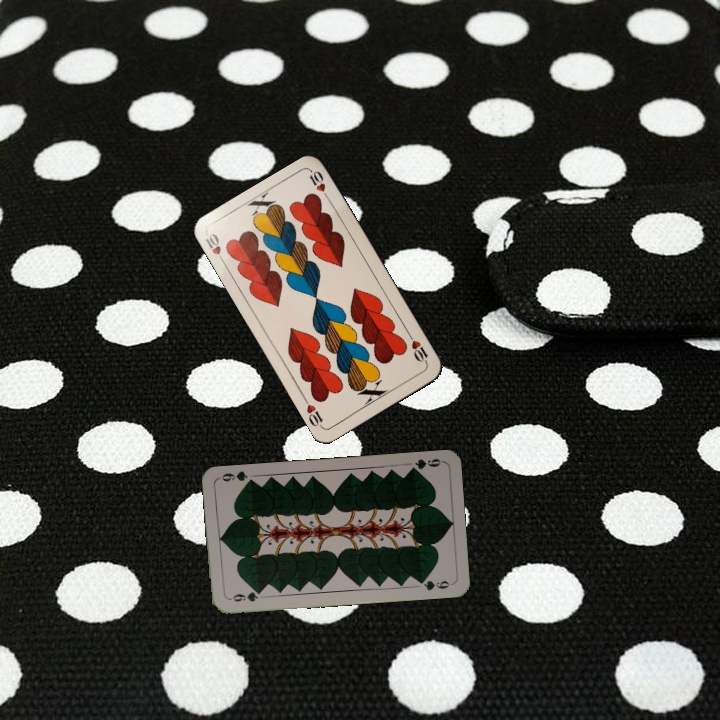G9: (405, 455, 445, 475), (225, 587, 264, 604)
H10: (201, 229, 228, 267), (404, 330, 431, 367)
